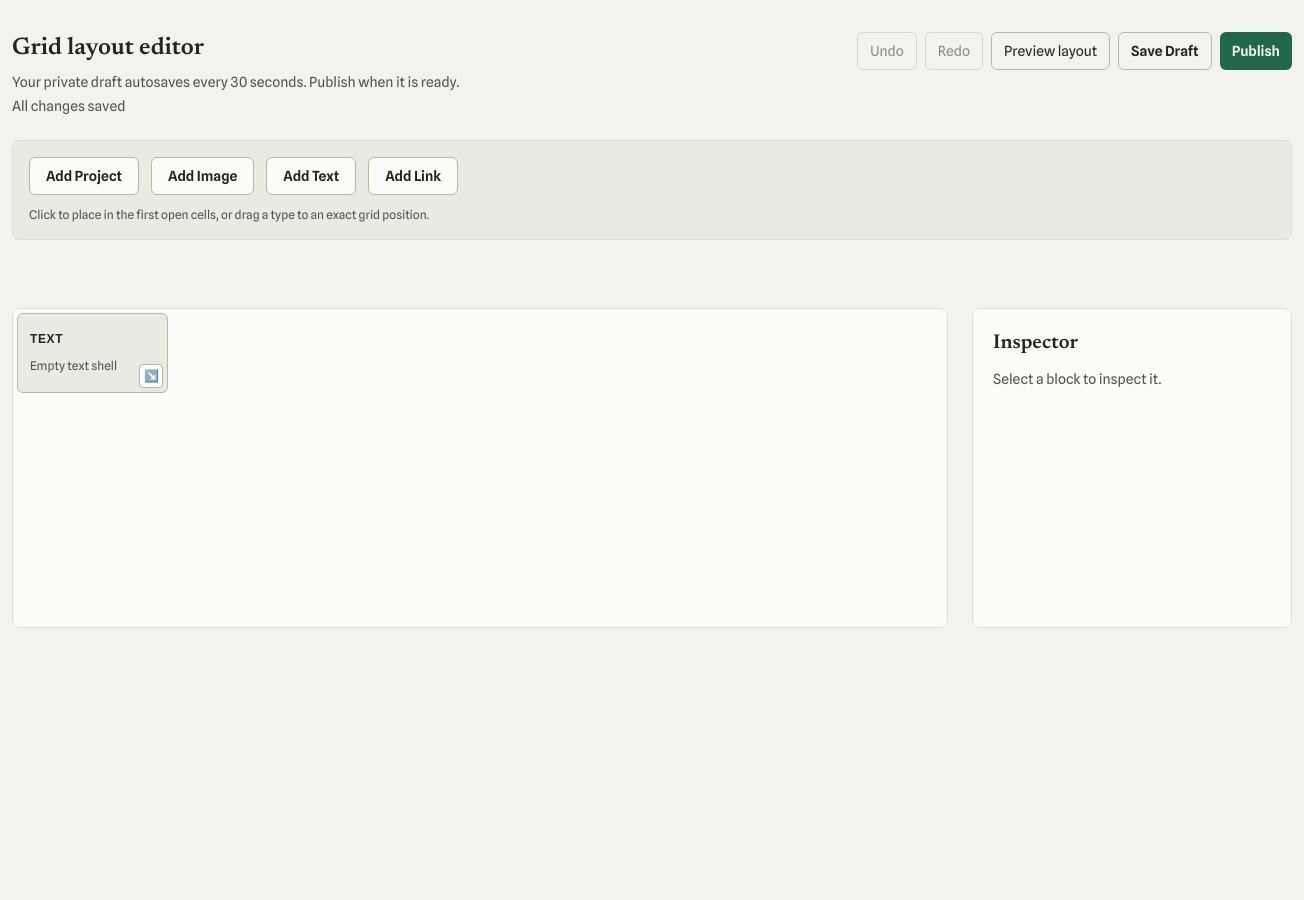
Test: GridLayoutEditor persistence › supports Save Draft and Publish, retaining local state and a persistent error on failure
Click the button "Save Draft" at point(1165, 51), box x1=1118 y1=32 x2=1212 y2=70
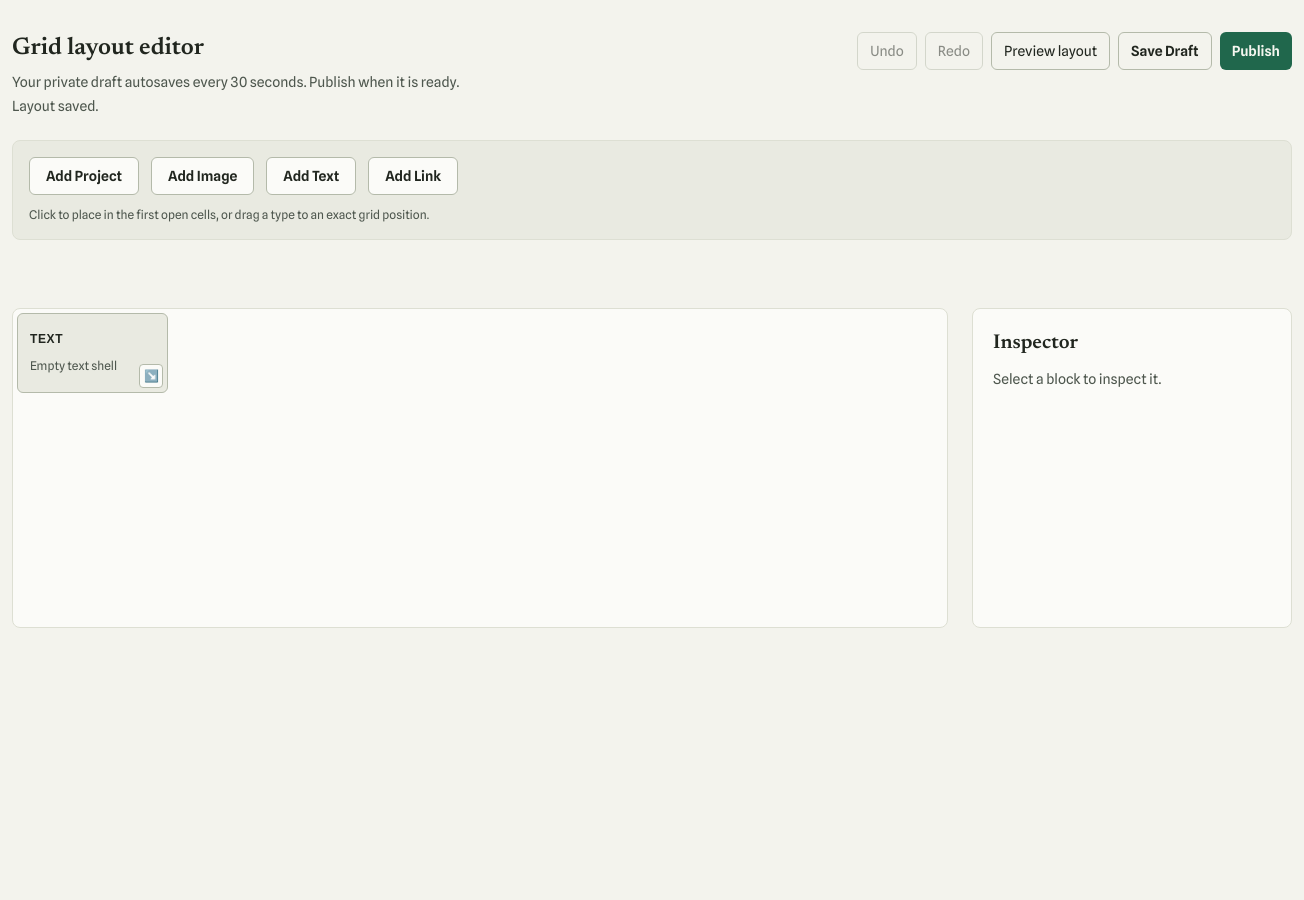
Click the button "Publish" at point(1256, 51), box x1=1220 y1=32 x2=1292 y2=70
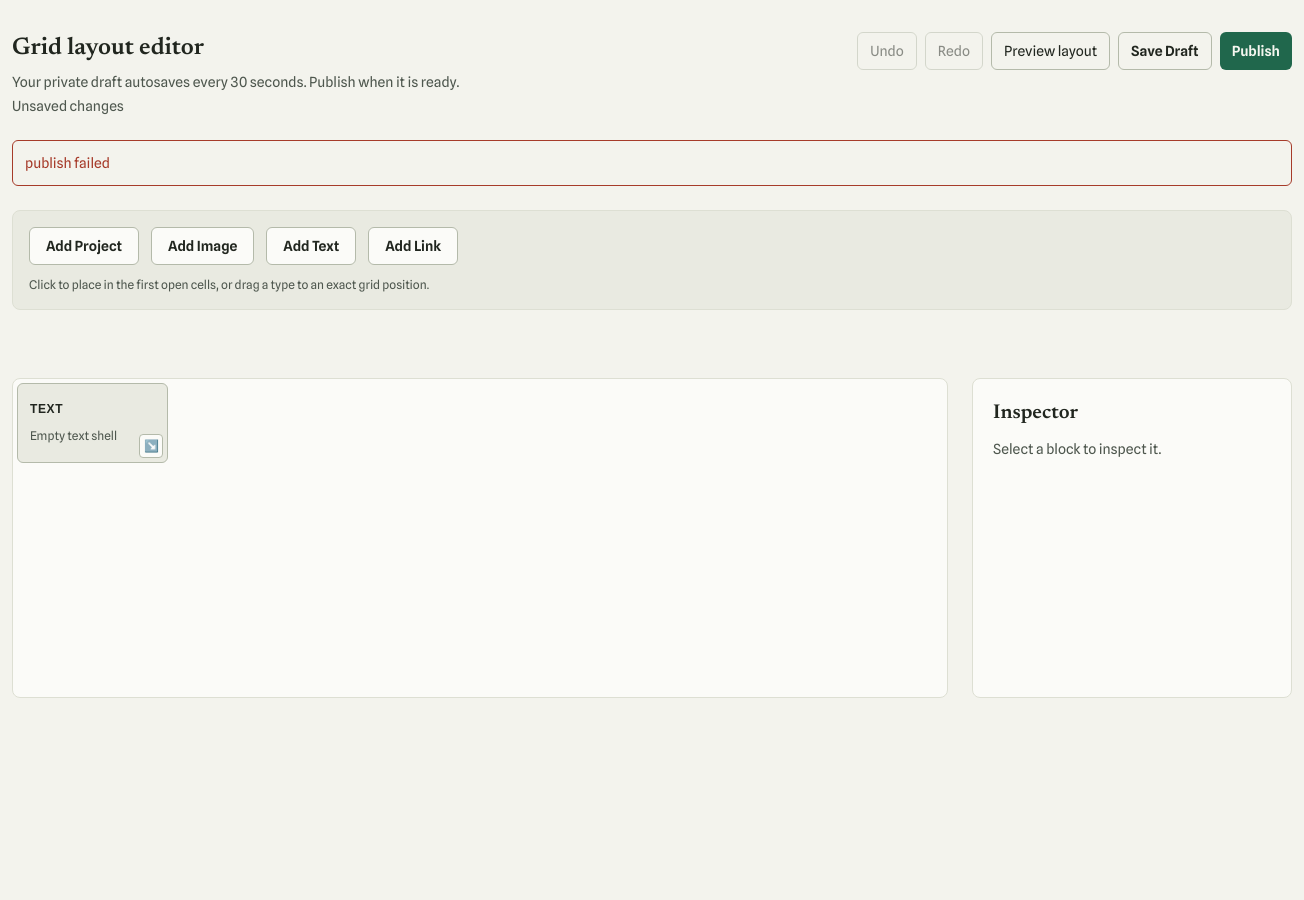
Expected: the button with aria-label "select text block saved" is shown, x1=17 y1=383 x2=168 y2=463
Now the message reads "publish failed", box x1=25 y1=155 x2=110 y2=171
